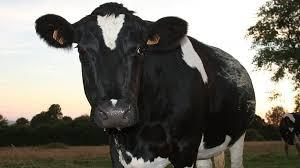cow: (35, 4, 256, 168)
